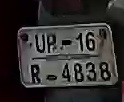1: (74, 32, 86, 54)
3: (83, 59, 98, 82)
4: (61, 63, 72, 84)
6: (85, 31, 98, 54)
8: (99, 61, 112, 84), (74, 63, 85, 83)
P: (46, 33, 58, 54)
R: (29, 64, 43, 85)
U: (35, 33, 47, 56)
